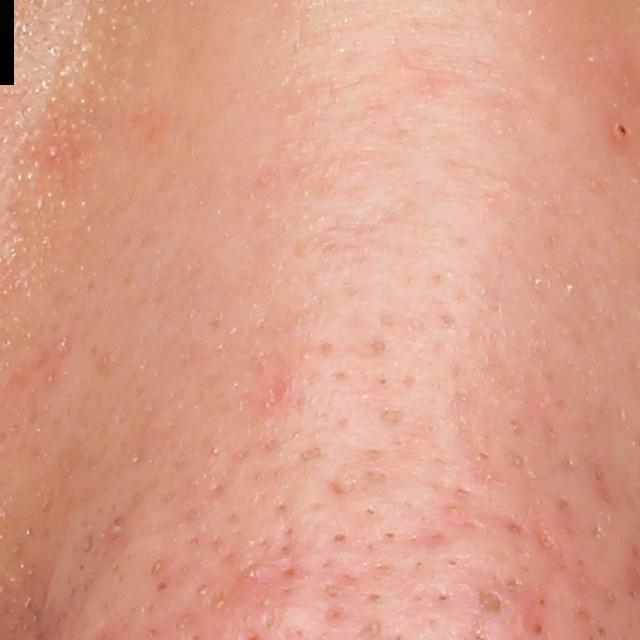comedo: (473, 588, 508, 617)
